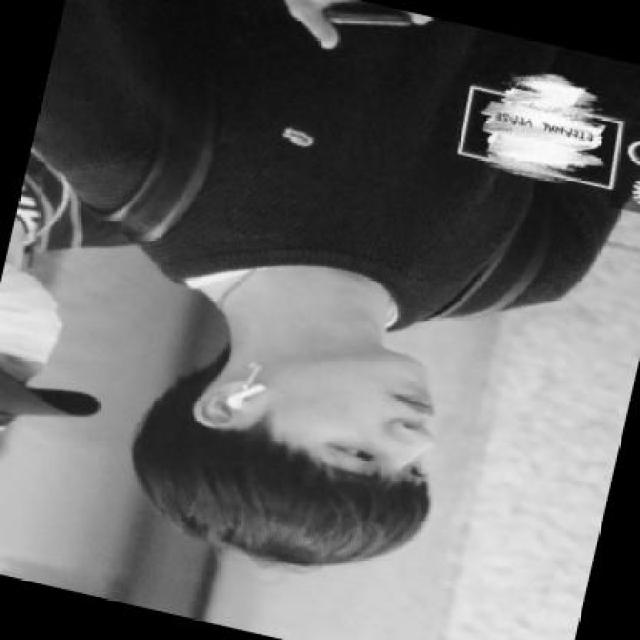earphone: (226, 375, 271, 429)
